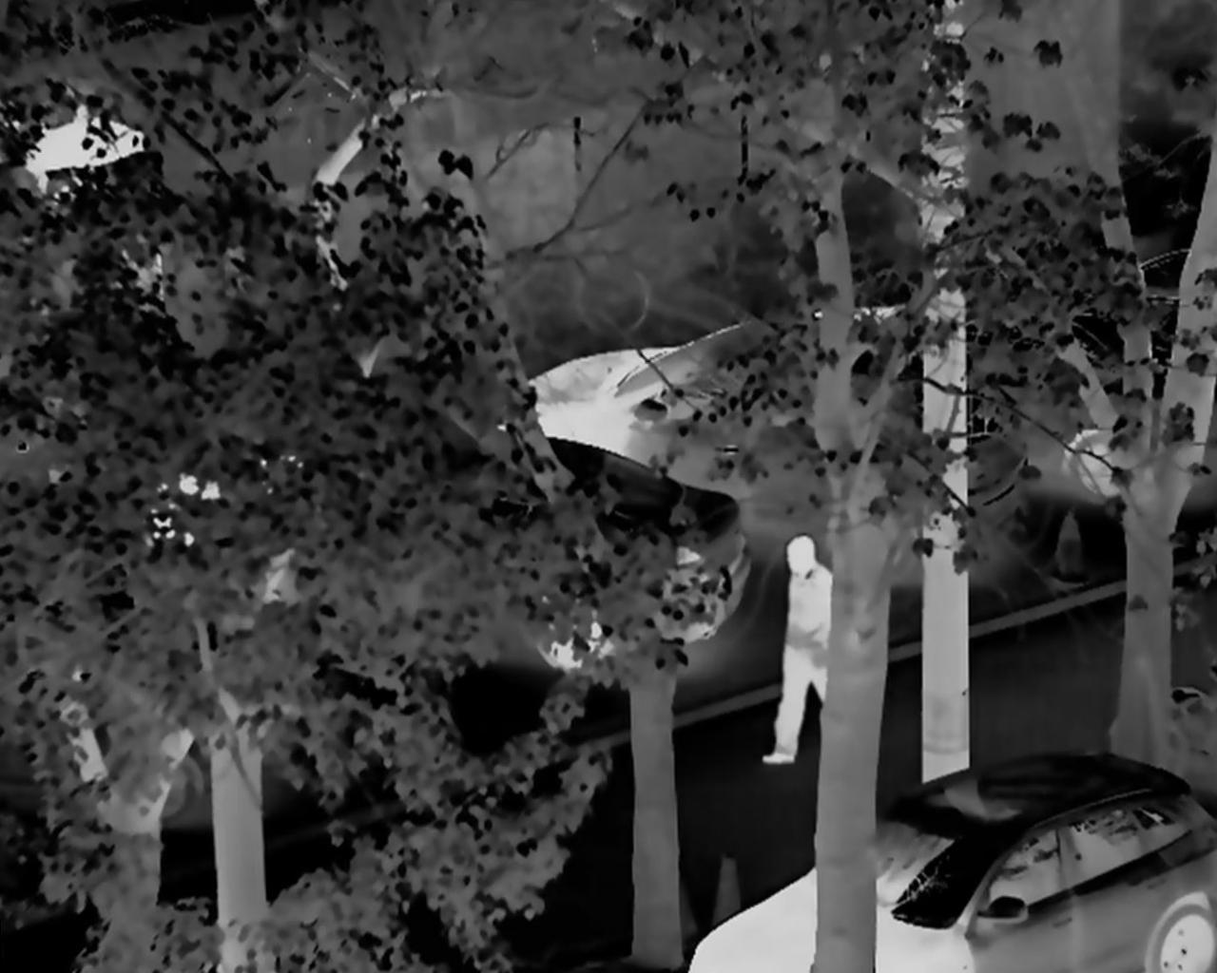person: (754, 532, 837, 763)
